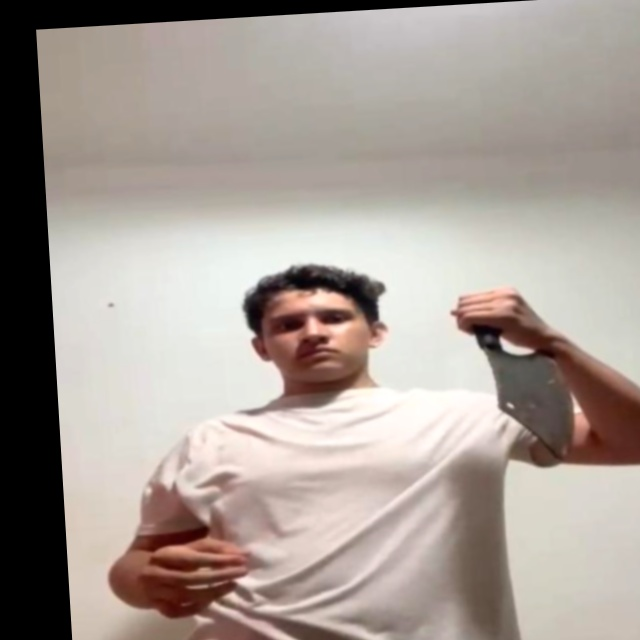Sharp-Object: (480, 342, 584, 462)
